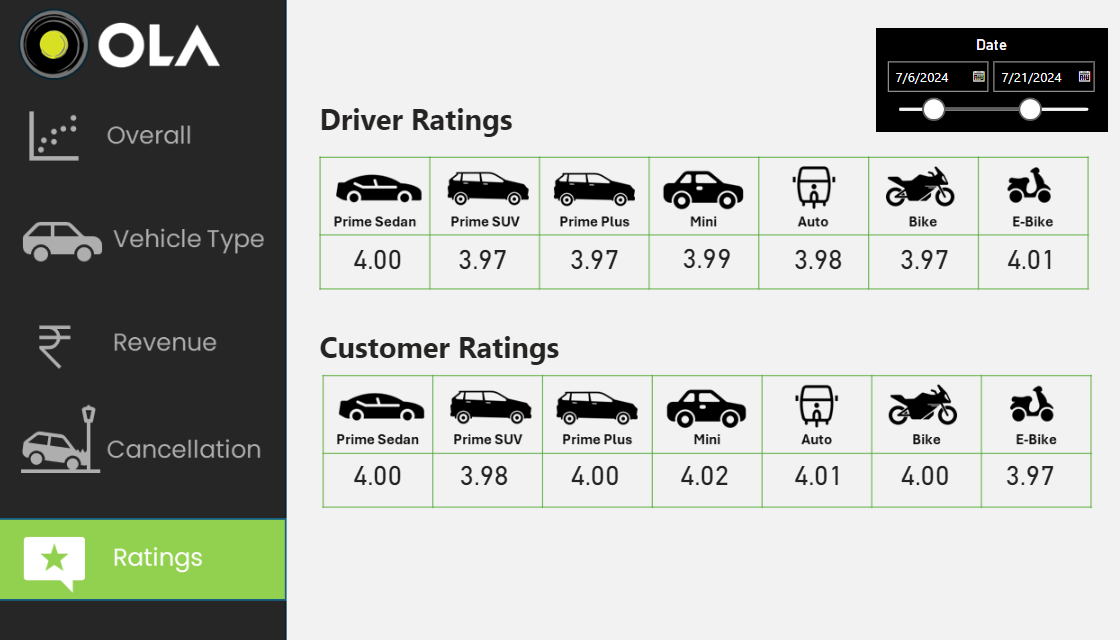

The dashboard page shown, as its layout file describes it:
{"tool":"powerbi","page":{"name":"Ratings","canvas":[1280,720],"ordinal":4},"visuals":[{"type":"actionButton","box":[31.7,230,325,90],"z":0},{"type":"actionButton","box":[31.7,331.7,325,90],"z":1000},{"type":"actionButton","box":[30,453.3,325,90],"z":2000},{"type":"actionButton","box":[30,103.3,325,90],"z":3000},{"type":"card","fields":{"Values":["Avg(Bookings.Driver_Ratings)"]},"box":[383.3,213.3,138.3,150],"z":4000},{"type":"card","fields":{"Values":["Avg(Bookings.Driver_Ratings)"]},"box":[513.3,213.3,111.7,150],"z":5000},{"type":"card","fields":{"Values":["Avg(Bookings.Driver_Ratings)"]},"box":[640,230,106.7,116.7],"z":6000},{"type":"card","fields":{"Values":["Avg(Bookings.Driver_Ratings)"]},"box":[877.5,212.5,127.5,150],"z":7000},{"type":"card","fields":{"Values":["Avg(Bookings.Driver_Ratings)"]},"box":[746.7,211.7,143.3,150],"z":8000},{"type":"card","fields":{"Values":["Avg(Bookings.Driver_Ratings)"]},"box":[990,213.3,140,150],"z":9000},{"type":"card","fields":{"Values":["Avg(Bookings.Driver_Ratings)"]},"box":[1115,212.5,127.5,150],"z":10000},{"type":"card","fields":{"Values":["Avg(Bookings.Customer_Rating)"]},"box":[383.3,453.3,138.3,150],"z":10001},{"type":"textbox","box":[383.3,106.7,231.7,83.3],"z":10002},{"type":"textbox","box":[383.3,360,298.3,83.3],"z":10003},{"type":"card","fields":{"Values":["Avg(Bookings.Customer_Rating)"]},"box":[501.7,453.3,138.3,150],"z":10004},{"type":"card","fields":{"Values":["Avg(Bookings.Customer_Rating)"]},"box":[625,453.3,138.3,150],"z":10005},{"type":"card","fields":{"Values":["Avg(Bookings.Customer_Rating)"]},"box":[746.7,453.3,138.3,150],"z":10006},{"type":"card","fields":{"Values":["Avg(Bookings.Customer_Rating)"]},"box":[873.3,453.3,138.3,150],"z":10007},{"type":"card","fields":{"Values":["Avg(Bookings.Customer_Rating)"]},"box":[991.7,453.3,138.3,150],"z":10008},{"type":"card","fields":{"Values":["Avg(Bookings.Customer_Rating)"]},"box":[1108.3,453.3,138.3,150],"z":10009},{"type":"slicer","title":"Date ","fields":{"Values":["Bookings.Date"]},"box":[1006.7,33.3,256.7,115],"z":10010}]}

Visuals, with their boxes on the page's 1280x720 design canvas (x1, y1, x2, y2). These are canvas units, not pixel positions in the 1120x640 screenshot, which may show the page scaled, cropped or inside an application window:
actionButton: crop(32, 230, 357, 320)
actionButton: crop(32, 332, 357, 422)
actionButton: crop(30, 453, 355, 543)
actionButton: crop(30, 103, 355, 193)
card - Avg(Bookings.Driver_Ratings): crop(383, 213, 522, 363)
card - Avg(Bookings.Driver_Ratings): crop(513, 213, 625, 363)
card - Avg(Bookings.Driver_Ratings): crop(640, 230, 747, 347)
card - Avg(Bookings.Driver_Ratings): crop(878, 212, 1005, 362)
card - Avg(Bookings.Driver_Ratings): crop(747, 212, 890, 362)
card - Avg(Bookings.Driver_Ratings): crop(990, 213, 1130, 363)
card - Avg(Bookings.Driver_Ratings): crop(1115, 212, 1242, 362)
card - Avg(Bookings.Customer_Rating): crop(383, 453, 522, 603)
textbox: crop(383, 107, 615, 190)
textbox: crop(383, 360, 682, 443)
card - Avg(Bookings.Customer_Rating): crop(502, 453, 640, 603)
card - Avg(Bookings.Customer_Rating): crop(625, 453, 763, 603)
card - Avg(Bookings.Customer_Rating): crop(747, 453, 885, 603)
card - Avg(Bookings.Customer_Rating): crop(873, 453, 1012, 603)
card - Avg(Bookings.Customer_Rating): crop(992, 453, 1130, 603)
card - Avg(Bookings.Customer_Rating): crop(1108, 453, 1247, 603)
"Date " slicer: crop(1007, 33, 1263, 148)
